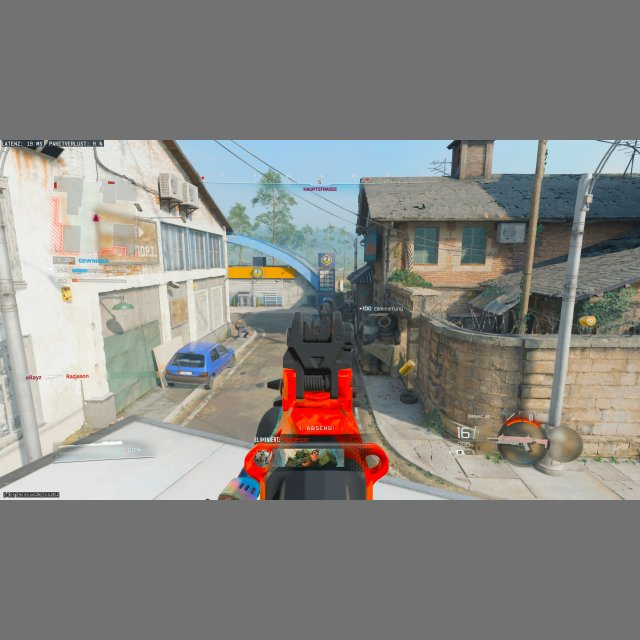player: (233, 318, 249, 339)
